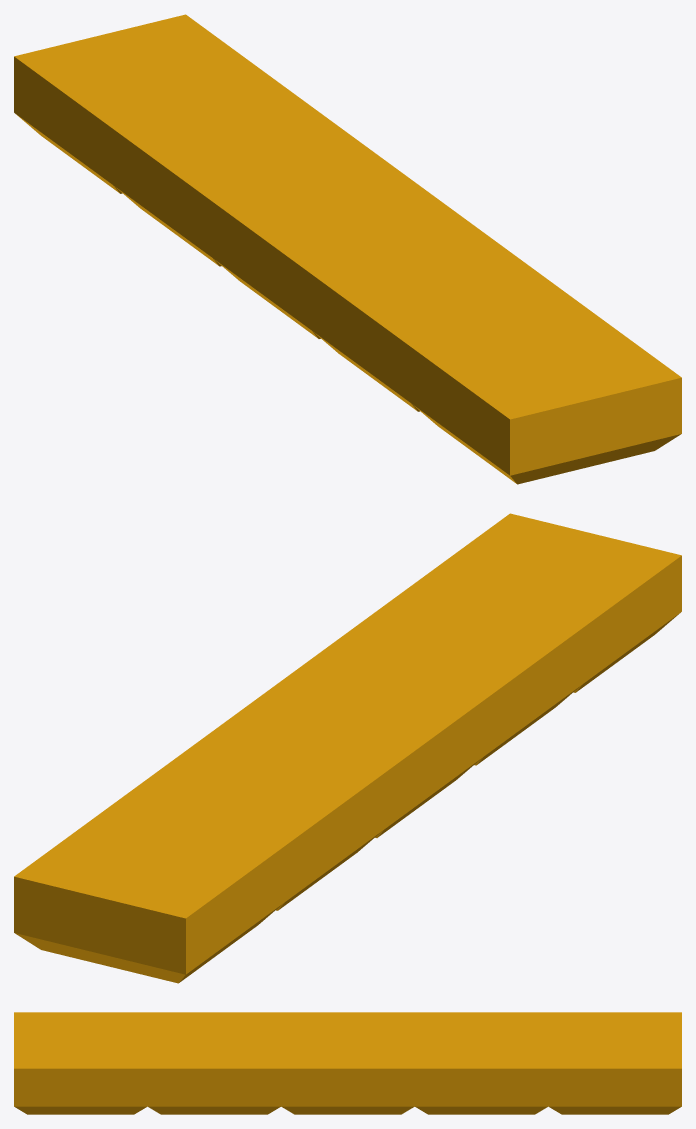
Rendered from Light2.fbx.
The picture shows the model from 3 angles, top to bottom: view 1: azimuth 30°, elevation 25°; view 2: azimuth 150°, elevation 25°; view 3: azimuth 270°, elevation 25°; orthographic projection. The views are drawn at different scales.
Visible parts, largest first — view 1: Cube; view 2: Cube; view 3: Cube.
Boxes of the visible parts, bbox=[...] form: Cube: bbox=[14, 14, 681, 484]; Cube: bbox=[14, 513, 681, 983]; Cube: bbox=[14, 1012, 681, 1114].
Bounding box in the file's own units: 0.8 × 0.34 × 4.
